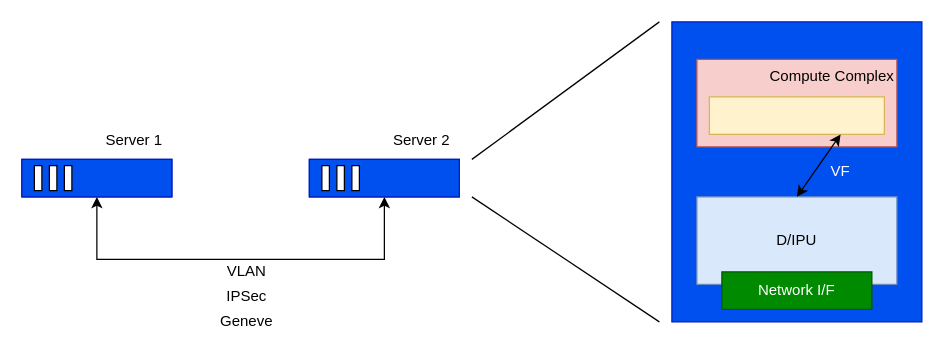
This 944x356 diagram has some shape labels left out. Each missing label, with the box of its shape:
Container(s): (708, 96, 884, 134)
Physical Server: (671, 21, 922, 322)
